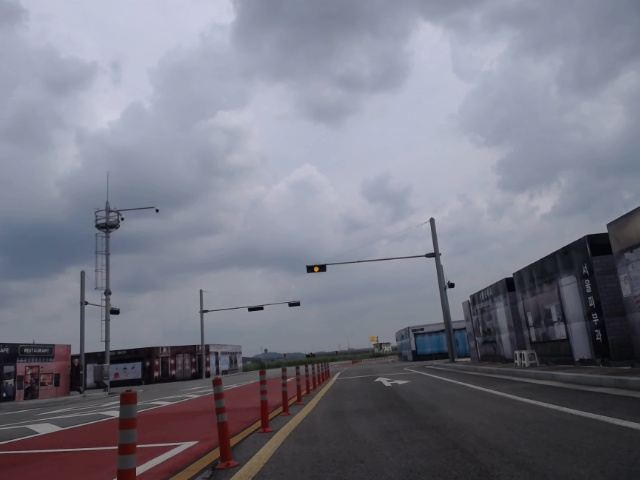orange_3: (307, 264, 326, 273)
